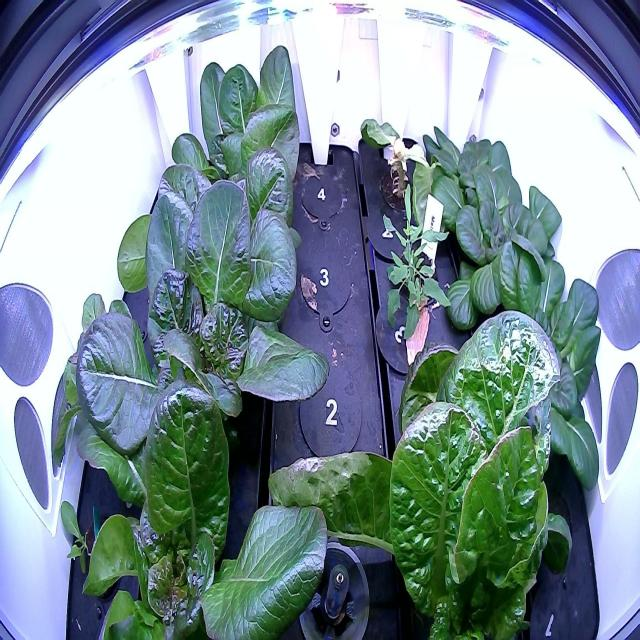empty_pod: (290, 348, 368, 472), (294, 220, 355, 334), (296, 160, 346, 229)
young: (69, 158, 338, 484), (51, 372, 330, 638), (433, 240, 612, 512), (113, 105, 309, 321), (155, 40, 312, 238), (434, 154, 584, 330), (407, 99, 526, 223)
